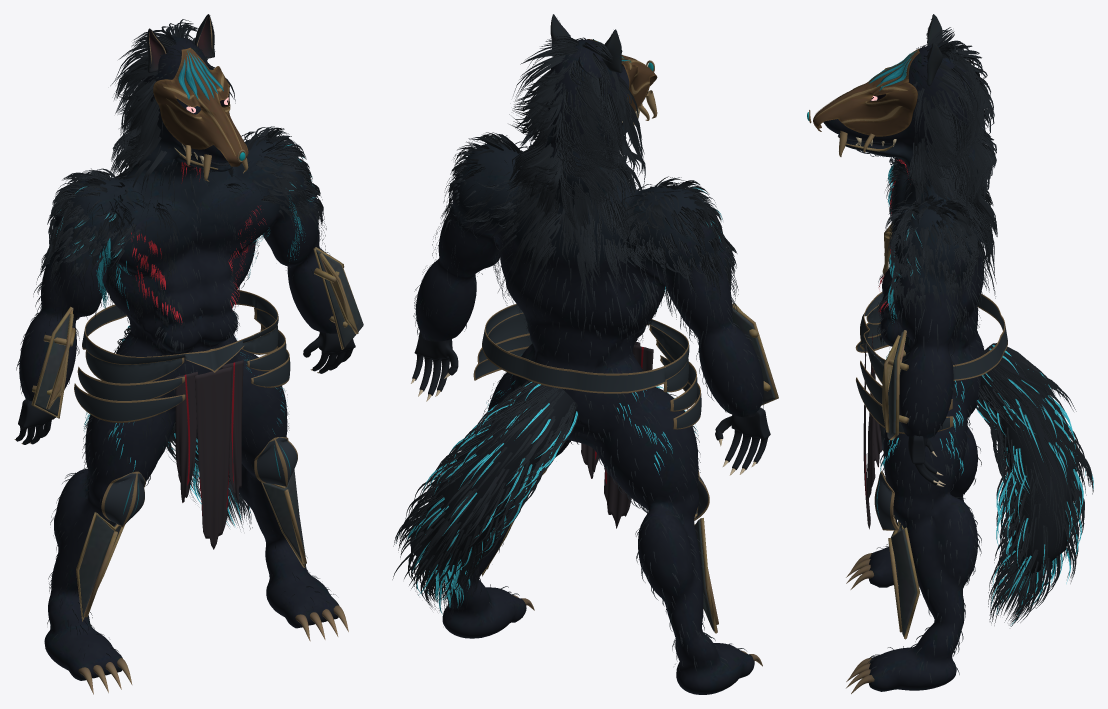
Rendered from fenrir.glb.
3 views of the same model, side by side, from view 1: azimuth 30°, elevation 25°; view 2: azimuth 150°, elevation 25°; view 3: azimuth 270°, elevation 25° (orthographic). The views are drawn at different scales.
Visible parts, largest first — view 1: Web_Fenrir_Body_Low_Prototype, Mobile Web Fenrir dyed fur ribbons, Mobile B16 knee dark forged steel, Mobile Fenrir_Armor_PBR_4K, Mobile V20_Cloth_PBR, Mobile B89 fitted bronze mask front, Mobile B21 baked knee material, Mobile V38_Detail_PBR_2K, Mobile B16 knee muted bronze, Mobile B47 dark hand skin prototype, Mobile B47 dark hand skin prototype.001, Mobile B85 painted cyan feather front prototype (+1 smaller); view 2: Web_Fenrir_Body_Low_Prototype, Mobile Web Fenrir dyed fur ribbons, Mobile B16 knee dark forged steel, Mobile Midnight fur, Mobile Fenrir_Armor_PBR_4K, Mobile B16 knee muted bronze, Mobile B47 dark hand skin prototype.001, Mobile B47 dark hand skin prototype, Mobile V20_Cloth_PBR, Mobile V38_Detail_PBR_2K, Mobile B89 fitted bronze mask front; view 3: Mobile Web Fenrir dyed fur ribbons, Web_Fenrir_Body_Low_Prototype, Mobile Midnight fur, Mobile Fenrir_Armor_PBR_4K, Mobile B89 fitted bronze mask front, Mobile B16 knee dark forged steel, Mobile V38_Detail_PBR_2K, Mobile V20_Cloth_PBR, Mobile B16 knee muted bronze, Mobile B21 baked knee material, Mobile B47 dark hand skin prototype, Mobile B85 painted cyan feather front prototype (+1 smaller).
Boxes of the visible parts, bbox=[...] form: Web_Fenrir_Body_Low_Prototype: bbox=[19, 36, 339, 680]; Mobile Web Fenrir dyed fur ribbons: bbox=[16, 15, 336, 658]; Mobile B16 knee dark forged steel: bbox=[74, 291, 290, 421]; Mobile Fenrir_Armor_PBR_4K: bbox=[31, 147, 363, 621]; Mobile V20_Cloth_PBR: bbox=[175, 360, 243, 549]; Mobile B89 fitted bronze mask front: bbox=[153, 47, 248, 166]; Mobile B21 baked knee material: bbox=[101, 437, 297, 527]; Mobile V38_Detail_PBR_2K: bbox=[78, 14, 348, 694]; Mobile B16 knee muted bronze: bbox=[74, 289, 289, 422]; Mobile B47 dark hand skin prototype: bbox=[303, 332, 355, 373]; Mobile B47 dark hand skin prototype.001: bbox=[15, 399, 55, 444]; Mobile B85 painted cyan feather front prototype: bbox=[178, 51, 223, 100]; Web_Fenrir_Body_Low_Prototype: bbox=[415, 39, 763, 694]; Mobile Web Fenrir dyed fur ribbons: bbox=[392, 20, 763, 672]; Mobile B16 knee dark forged steel: bbox=[475, 305, 701, 428]; Mobile Midnight fur: bbox=[410, 110, 636, 580]; Mobile Fenrir_Armor_PBR_4K: bbox=[482, 111, 778, 633]; Mobile B16 knee muted bronze: bbox=[473, 304, 700, 429]; Mobile B47 dark hand skin prototype.001: bbox=[715, 408, 770, 470]; Mobile B47 dark hand skin prototype: bbox=[412, 332, 458, 395]; Mobile V20_Cloth_PBR: bbox=[581, 342, 653, 528]; Mobile V38_Detail_PBR_2K: bbox=[513, 14, 762, 666]; Mobile B89 fitted bronze mask front: bbox=[595, 40, 656, 111]; Mobile Web Fenrir dyed fur ribbons: bbox=[857, 15, 1093, 682]; Web_Fenrir_Body_Low_Prototype: bbox=[823, 45, 984, 691]; Mobile Midnight fur: bbox=[838, 135, 1078, 584]; Mobile Fenrir_Armor_PBR_4K: bbox=[846, 143, 919, 639]; Mobile B89 fitted bronze mask front: bbox=[813, 48, 919, 136]; Mobile B16 knee dark forged steel: bbox=[856, 293, 1007, 432]; Mobile V38_Detail_PBR_2K: bbox=[846, 14, 942, 693]; Mobile V20_Cloth_PBR: bbox=[863, 333, 882, 529]; Mobile B16 knee muted bronze: bbox=[855, 292, 1007, 434]; Mobile B21 baked knee material: bbox=[874, 424, 899, 530]; Mobile B47 dark hand skin prototype: bbox=[908, 435, 938, 485]; Mobile B85 painted cyan feather front prototype: bbox=[869, 51, 916, 90].
Bounding box in the file's own units: 1.61 × 2.84 × 1.22.
26 materials, 8 textured.
